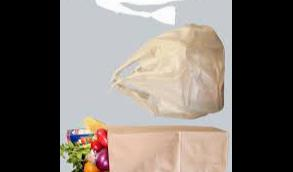Plastic: (107, 22, 232, 116)
